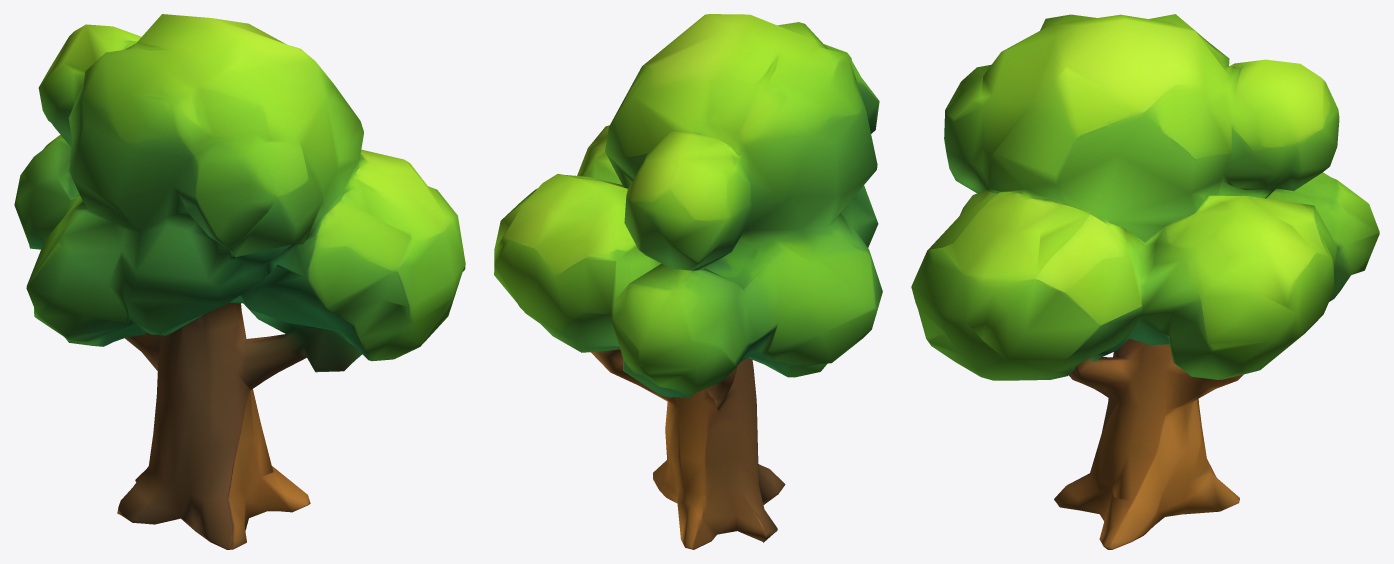
The picture shows the model from 3 angles, left to right: view 1: azimuth 30°, elevation 25°; view 2: azimuth 150°, elevation 25°; view 3: azimuth 270°, elevation 25°; orthographic projection. The views are drawn at different scales.
Parts seen in each view (by area): view 1: tripo_node_21cfc703-323c-4552-b60b-99a9862177c9; view 2: tripo_node_21cfc703-323c-4552-b60b-99a9862177c9; view 3: tripo_node_21cfc703-323c-4552-b60b-99a9862177c9.
Part boxes in pixels (<box>): tripo_node_21cfc703-323c-4552-b60b-99a9862177c9: <box>14,14,465,549</box>; tripo_node_21cfc703-323c-4552-b60b-99a9862177c9: <box>494,14,882,549</box>; tripo_node_21cfc703-323c-4552-b60b-99a9862177c9: <box>911,14,1379,549</box>.
Size of the model in its own units: 0.7515 by 1 by 0.8669.
1 material, 1 textured.
